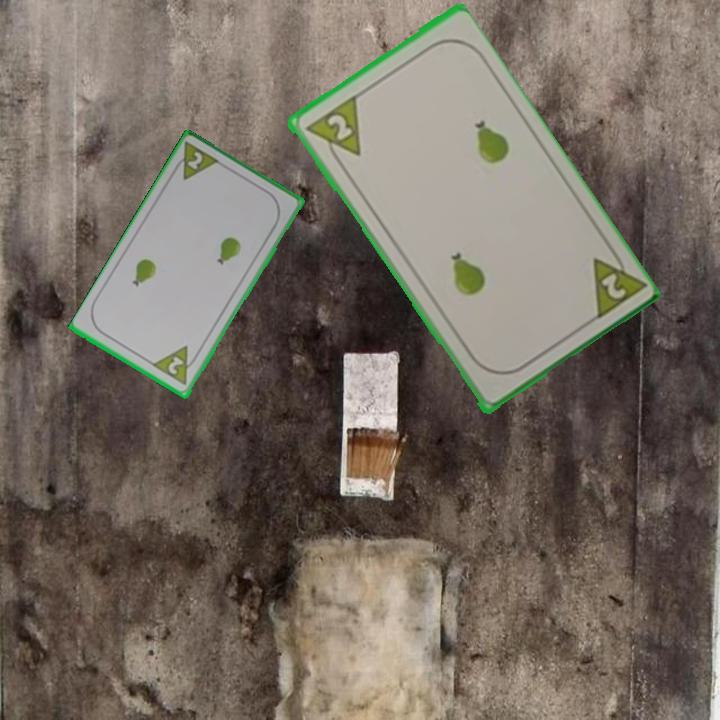2p: (301, 92, 364, 170), (588, 241, 646, 324), (168, 139, 223, 184), (150, 343, 202, 389)
